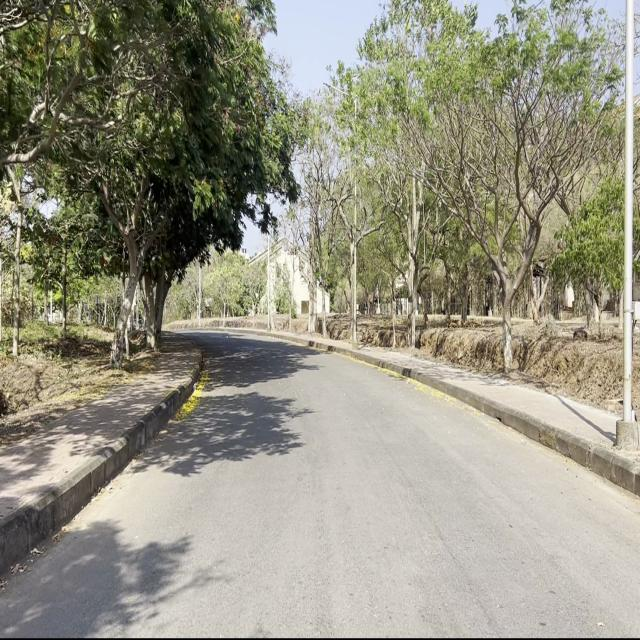Road: (3, 329, 637, 635)
